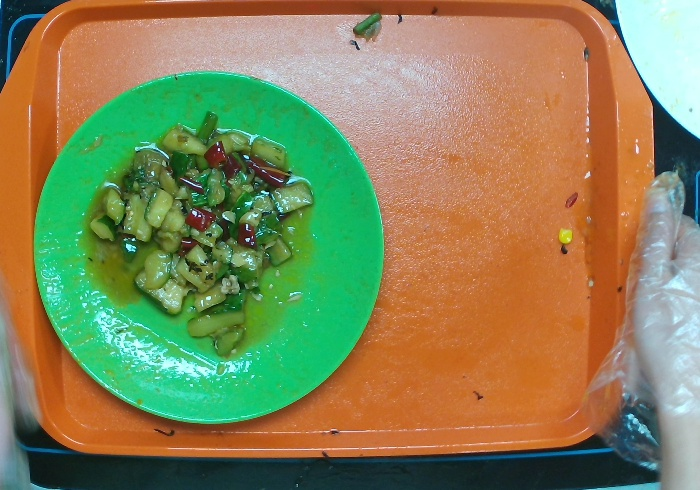HZYJPL-Lv_Se_Yuan_Pan: (31, 67, 387, 428)
